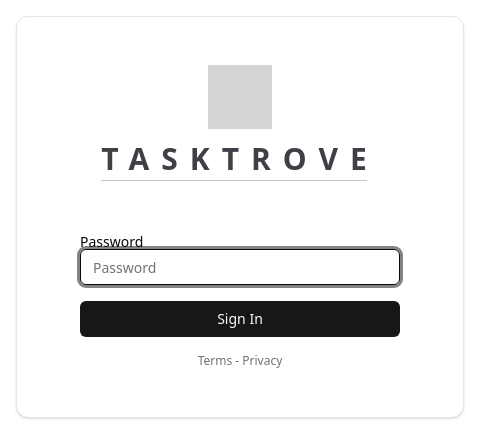
Test: LoginForm › Form Interactions › shows loading state during submission
Type "password123" into the password field with placeholder "Password" at (240, 267), box x1=80 y1=249 x2=400 y2=285
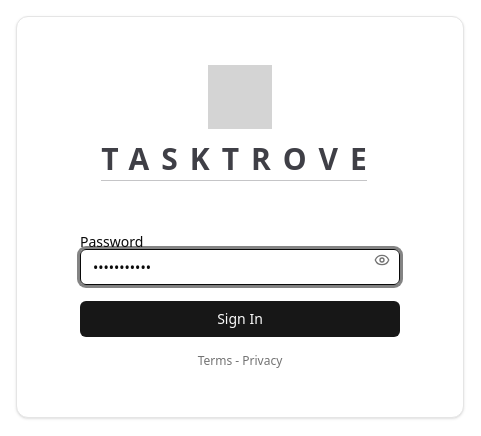
Click the button "Sign In" at (240, 319), box x1=80 y1=301 x2=400 y2=337
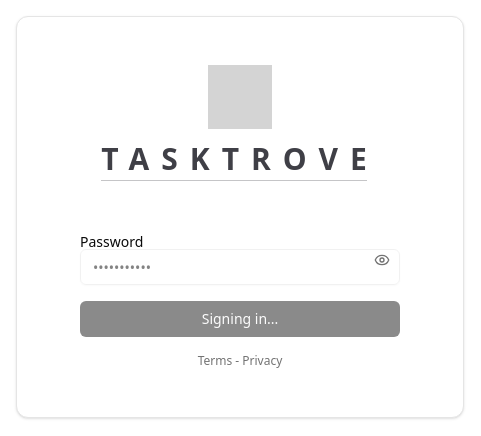
Expected: the button "Signing in..." is disabled, x1=80 y1=301 x2=400 y2=337
